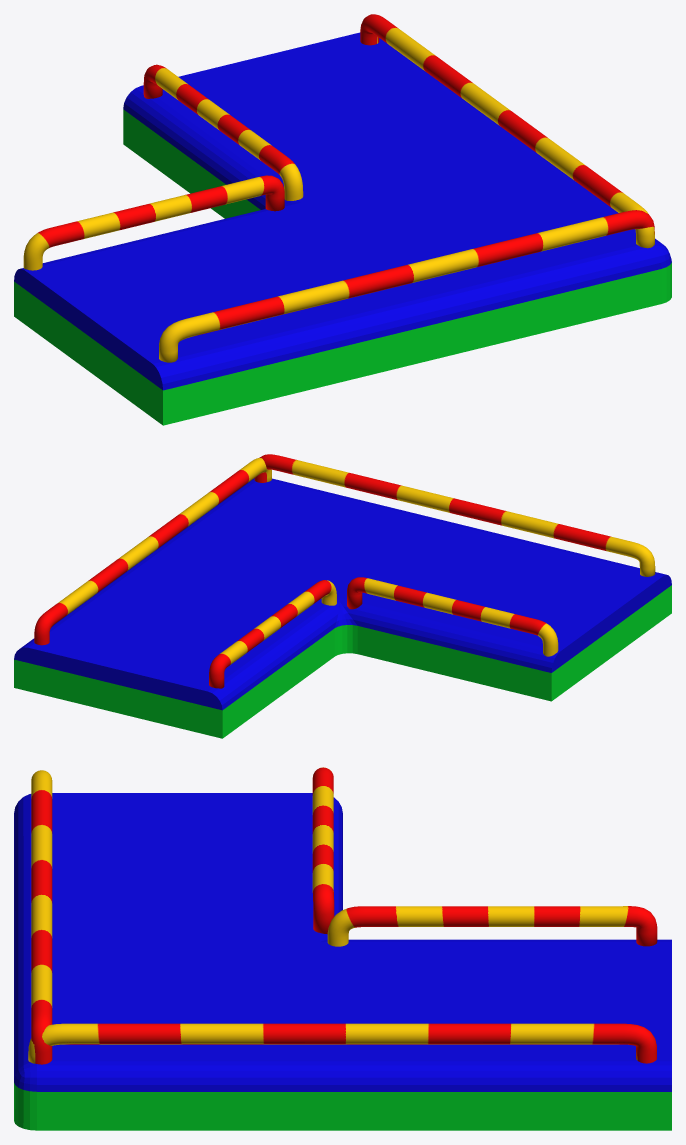
The model's file is 4 with texture.fbx.
3 renders of one model, top to bottom at view 1: azimuth 30°, elevation 25°; view 2: azimuth 150°, elevation 25°; view 3: azimuth 270°, elevation 25°, orthographic. The views are drawn at different scales.
Visible parts, largest first — view 1: Cube, pCylinder13, pCylinder13.001, pCylinder19, pCylinder19.001; view 2: Cube, pCylinder13, pCylinder13.001, pCylinder19, pCylinder19.001; view 3: Cube, pCylinder13.001, pCylinder19.001, pCylinder13, pCylinder19.
Part boxes in pixels (bbox=[...]): Cube: bbox=[14, 32, 671, 425]; pCylinder13: bbox=[159, 210, 654, 362]; pCylinder13.001: bbox=[360, 14, 654, 248]; pCylinder19: bbox=[23, 175, 284, 270]; pCylinder19.001: bbox=[143, 64, 303, 200]; Cube: bbox=[14, 478, 671, 738]; pCylinder13: bbox=[254, 454, 655, 576]; pCylinder13.001: bbox=[34, 458, 271, 645]; pCylinder19: bbox=[347, 577, 558, 656]; pCylinder19.001: bbox=[209, 580, 336, 688]; Cube: bbox=[14, 793, 671, 1130]; pCylinder13.001: bbox=[28, 1023, 656, 1063]; pCylinder19.001: bbox=[327, 906, 657, 946]; pCylinder13: bbox=[31, 770, 52, 1064]; pCylinder19: bbox=[312, 767, 334, 934].
Bounding box in the file's own units: 1000 × 163 × 1000.
